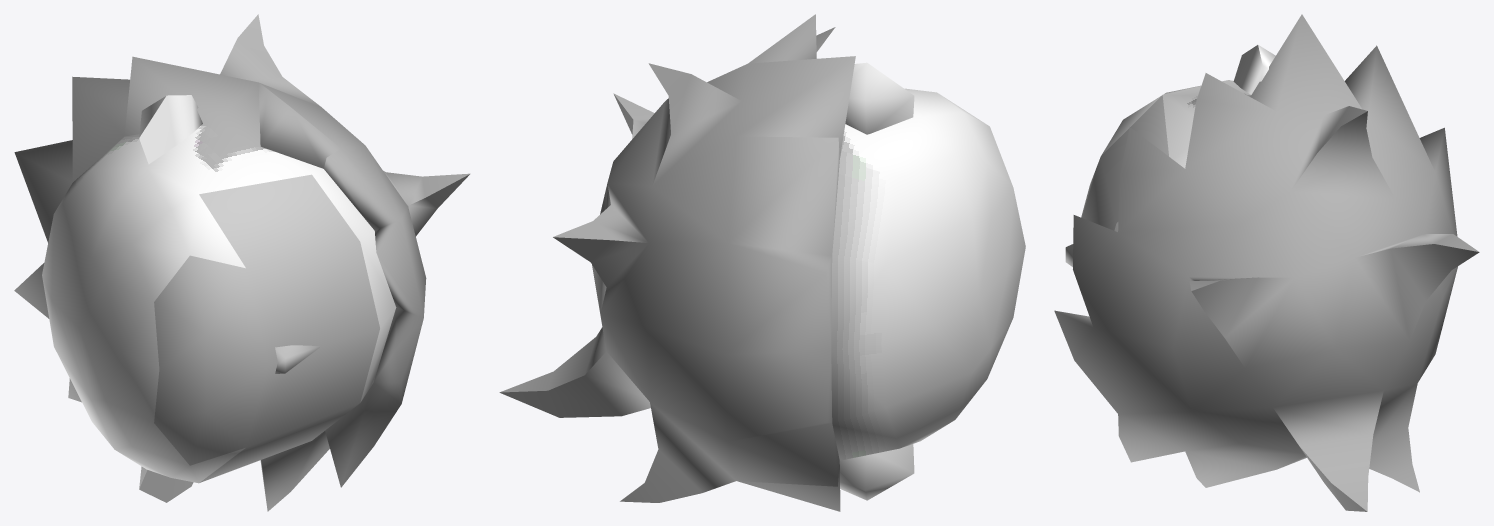
File: boy_msd_a.dae
3 views of the same model, side by side, from view 1: azimuth 30°, elevation 25°; view 2: azimuth 150°, elevation 25°; view 3: azimuth 270°, elevation 25° (orthographic). The views are drawn at different scales.
Parts seen in each view (by area): view 1: vsn_mesh_0_, vsn_mesh_1_, vsn_mesh_2_; view 2: vsn_mesh_0_; view 3: vsn_mesh_0_, vsn_mesh_1_.
Boxes of the visible parts, box(x1,y1,x2,y2) form: vsn_mesh_0_: box(14, 14, 470, 511); vsn_mesh_1_: box(199, 174, 379, 482); vsn_mesh_2_: box(154, 255, 267, 465); vsn_mesh_0_: box(499, 14, 1025, 511); vsn_mesh_0_: box(1054, 14, 1479, 511); vsn_mesh_1_: box(1065, 95, 1168, 266).
Bounding box in the file's own units: 26.23 × 28.88 × 25.74.
3 materials, 1 textured.
